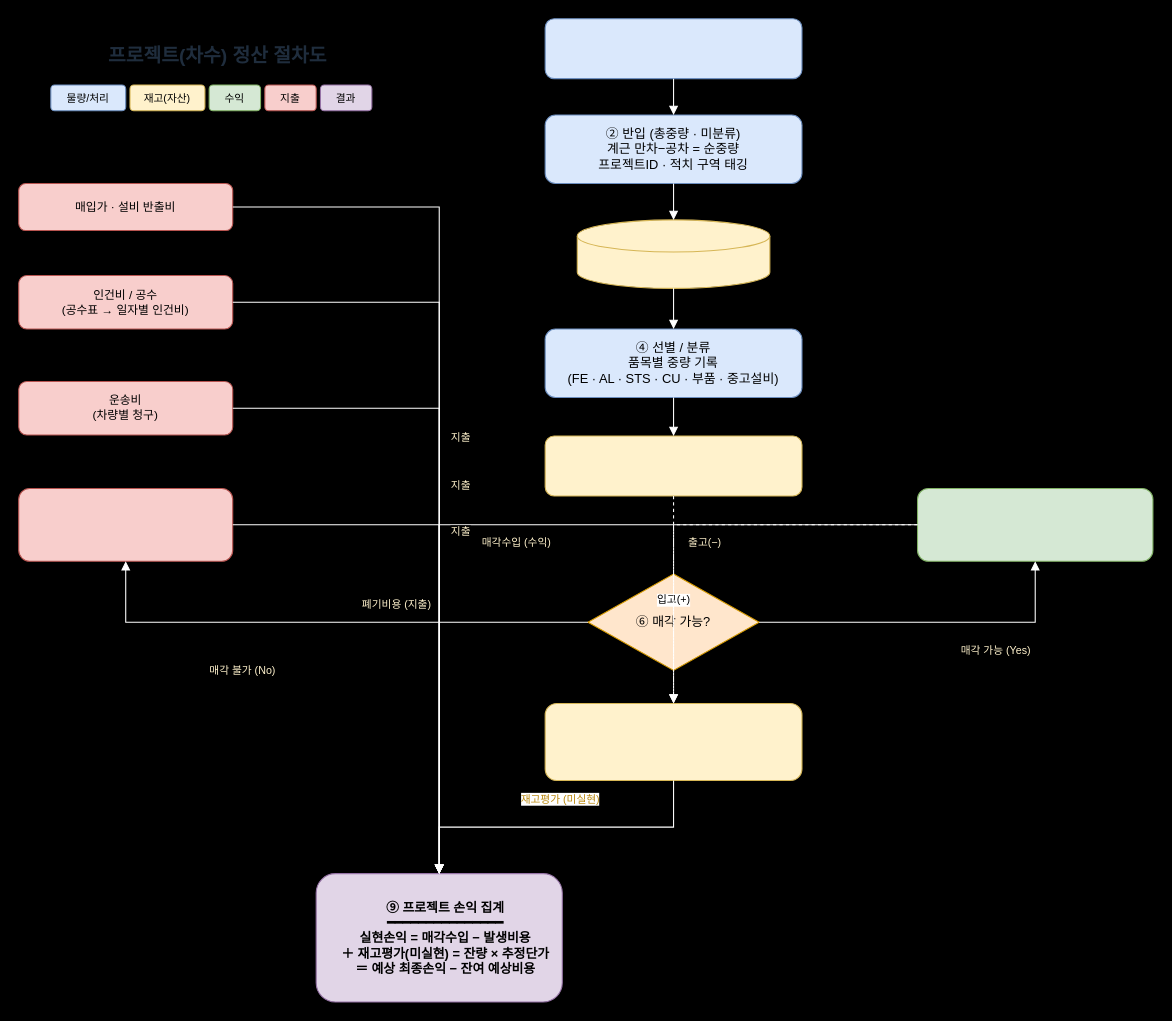
Image size: 1172x1021. Some labels were removed from this diagram. Here are the shapes that lost their labels. From the top down, the centre of each, then its label:
the point at 673,48: ① 프로젝트(차수) 등록 매입처 · 매입가 · 기간
the point at 673,253: ③ 야적장 적치 (미분류 재고 상태)
the point at 673,465: ⑤ 재고원장 입고 (품목 확정) 프로젝트 × 품목 단위
the point at 125,524: ⑦' 폐기물 반출 (처리 비용 · 현재 무상)
the point at 1034,524: ⑦ 반출 / 매각 (출고) 거래처 · 단가 · 정산중량 세금계산서 · 입금
the point at 673,741: ⑧ 야적장 재고 잔량 = 입고(+) − 출고(−) 품목별 잔량 × 추정단가 = 재고평가
